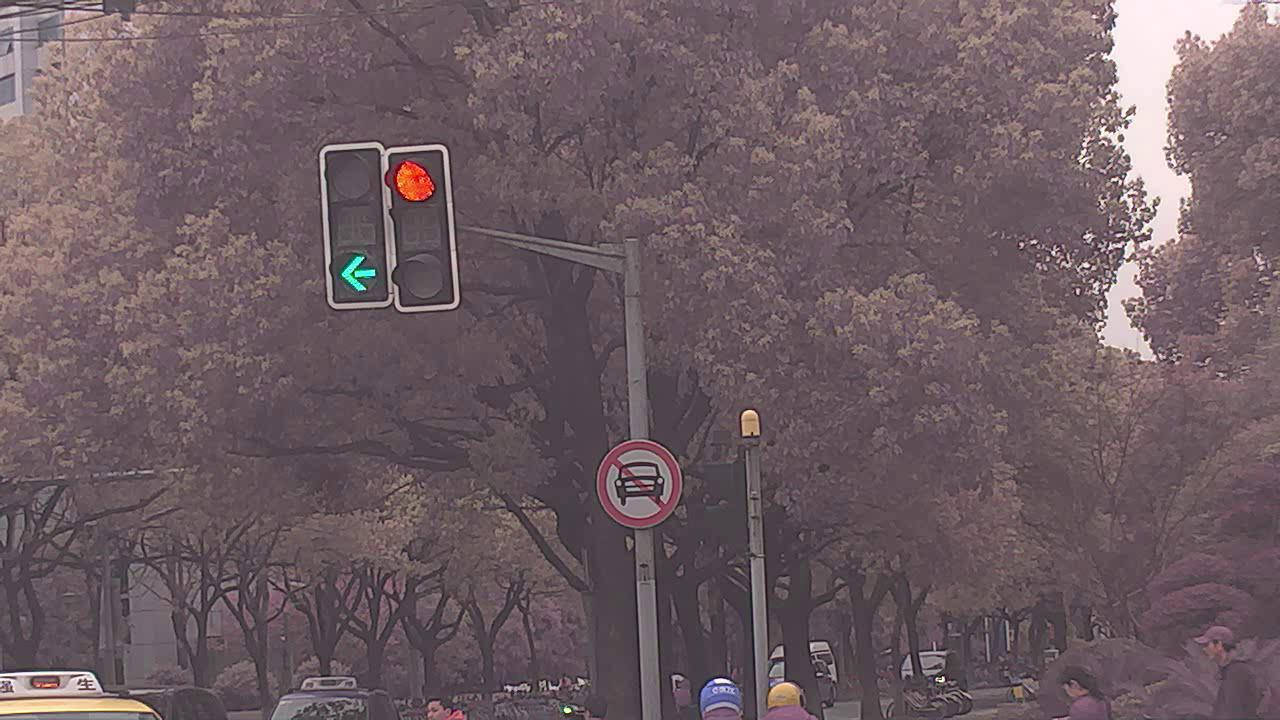traffic_light: (388, 146, 460, 307), (323, 145, 388, 304)
